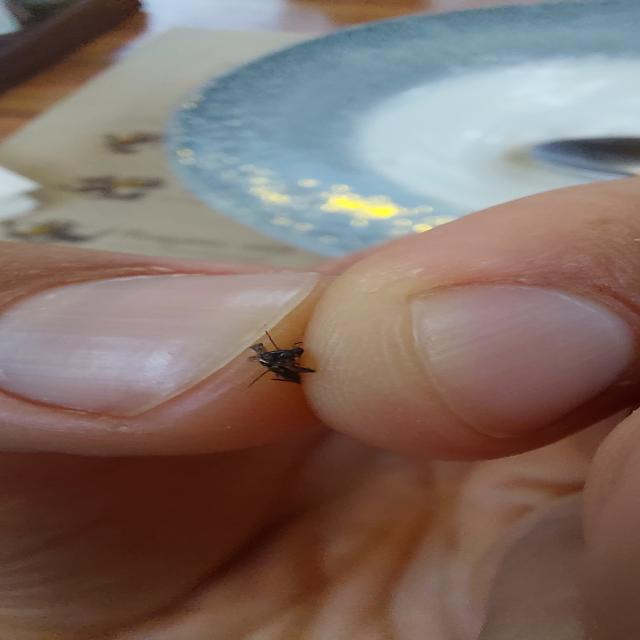albopictus: (233, 330, 323, 387)
